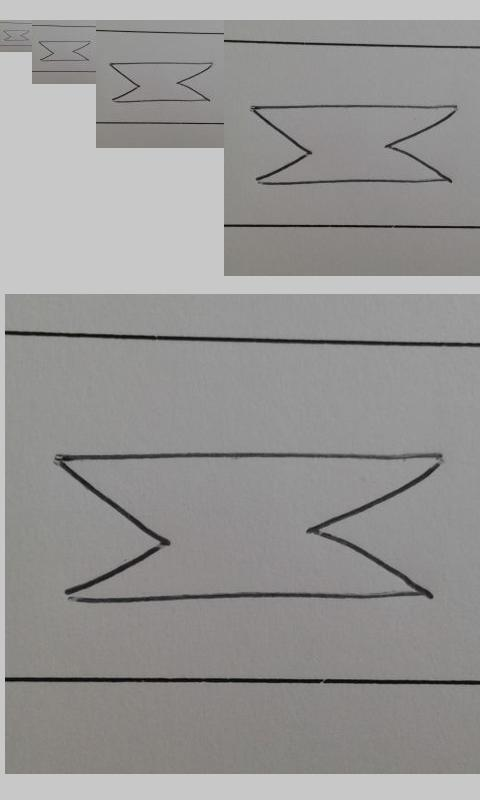edit_text: (53, 450, 442, 606), (249, 104, 460, 186), (108, 61, 214, 104), (38, 40, 91, 62), (2, 29, 30, 42)
